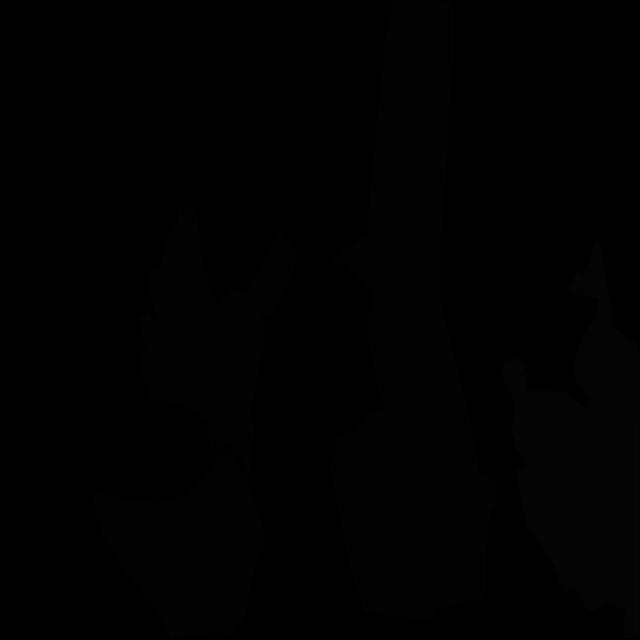cardboard: (329, 236, 497, 623), (138, 208, 298, 474), (93, 454, 267, 640), (366, 0, 454, 295)
soft_plastic: (502, 357, 640, 640), (568, 237, 640, 397)
